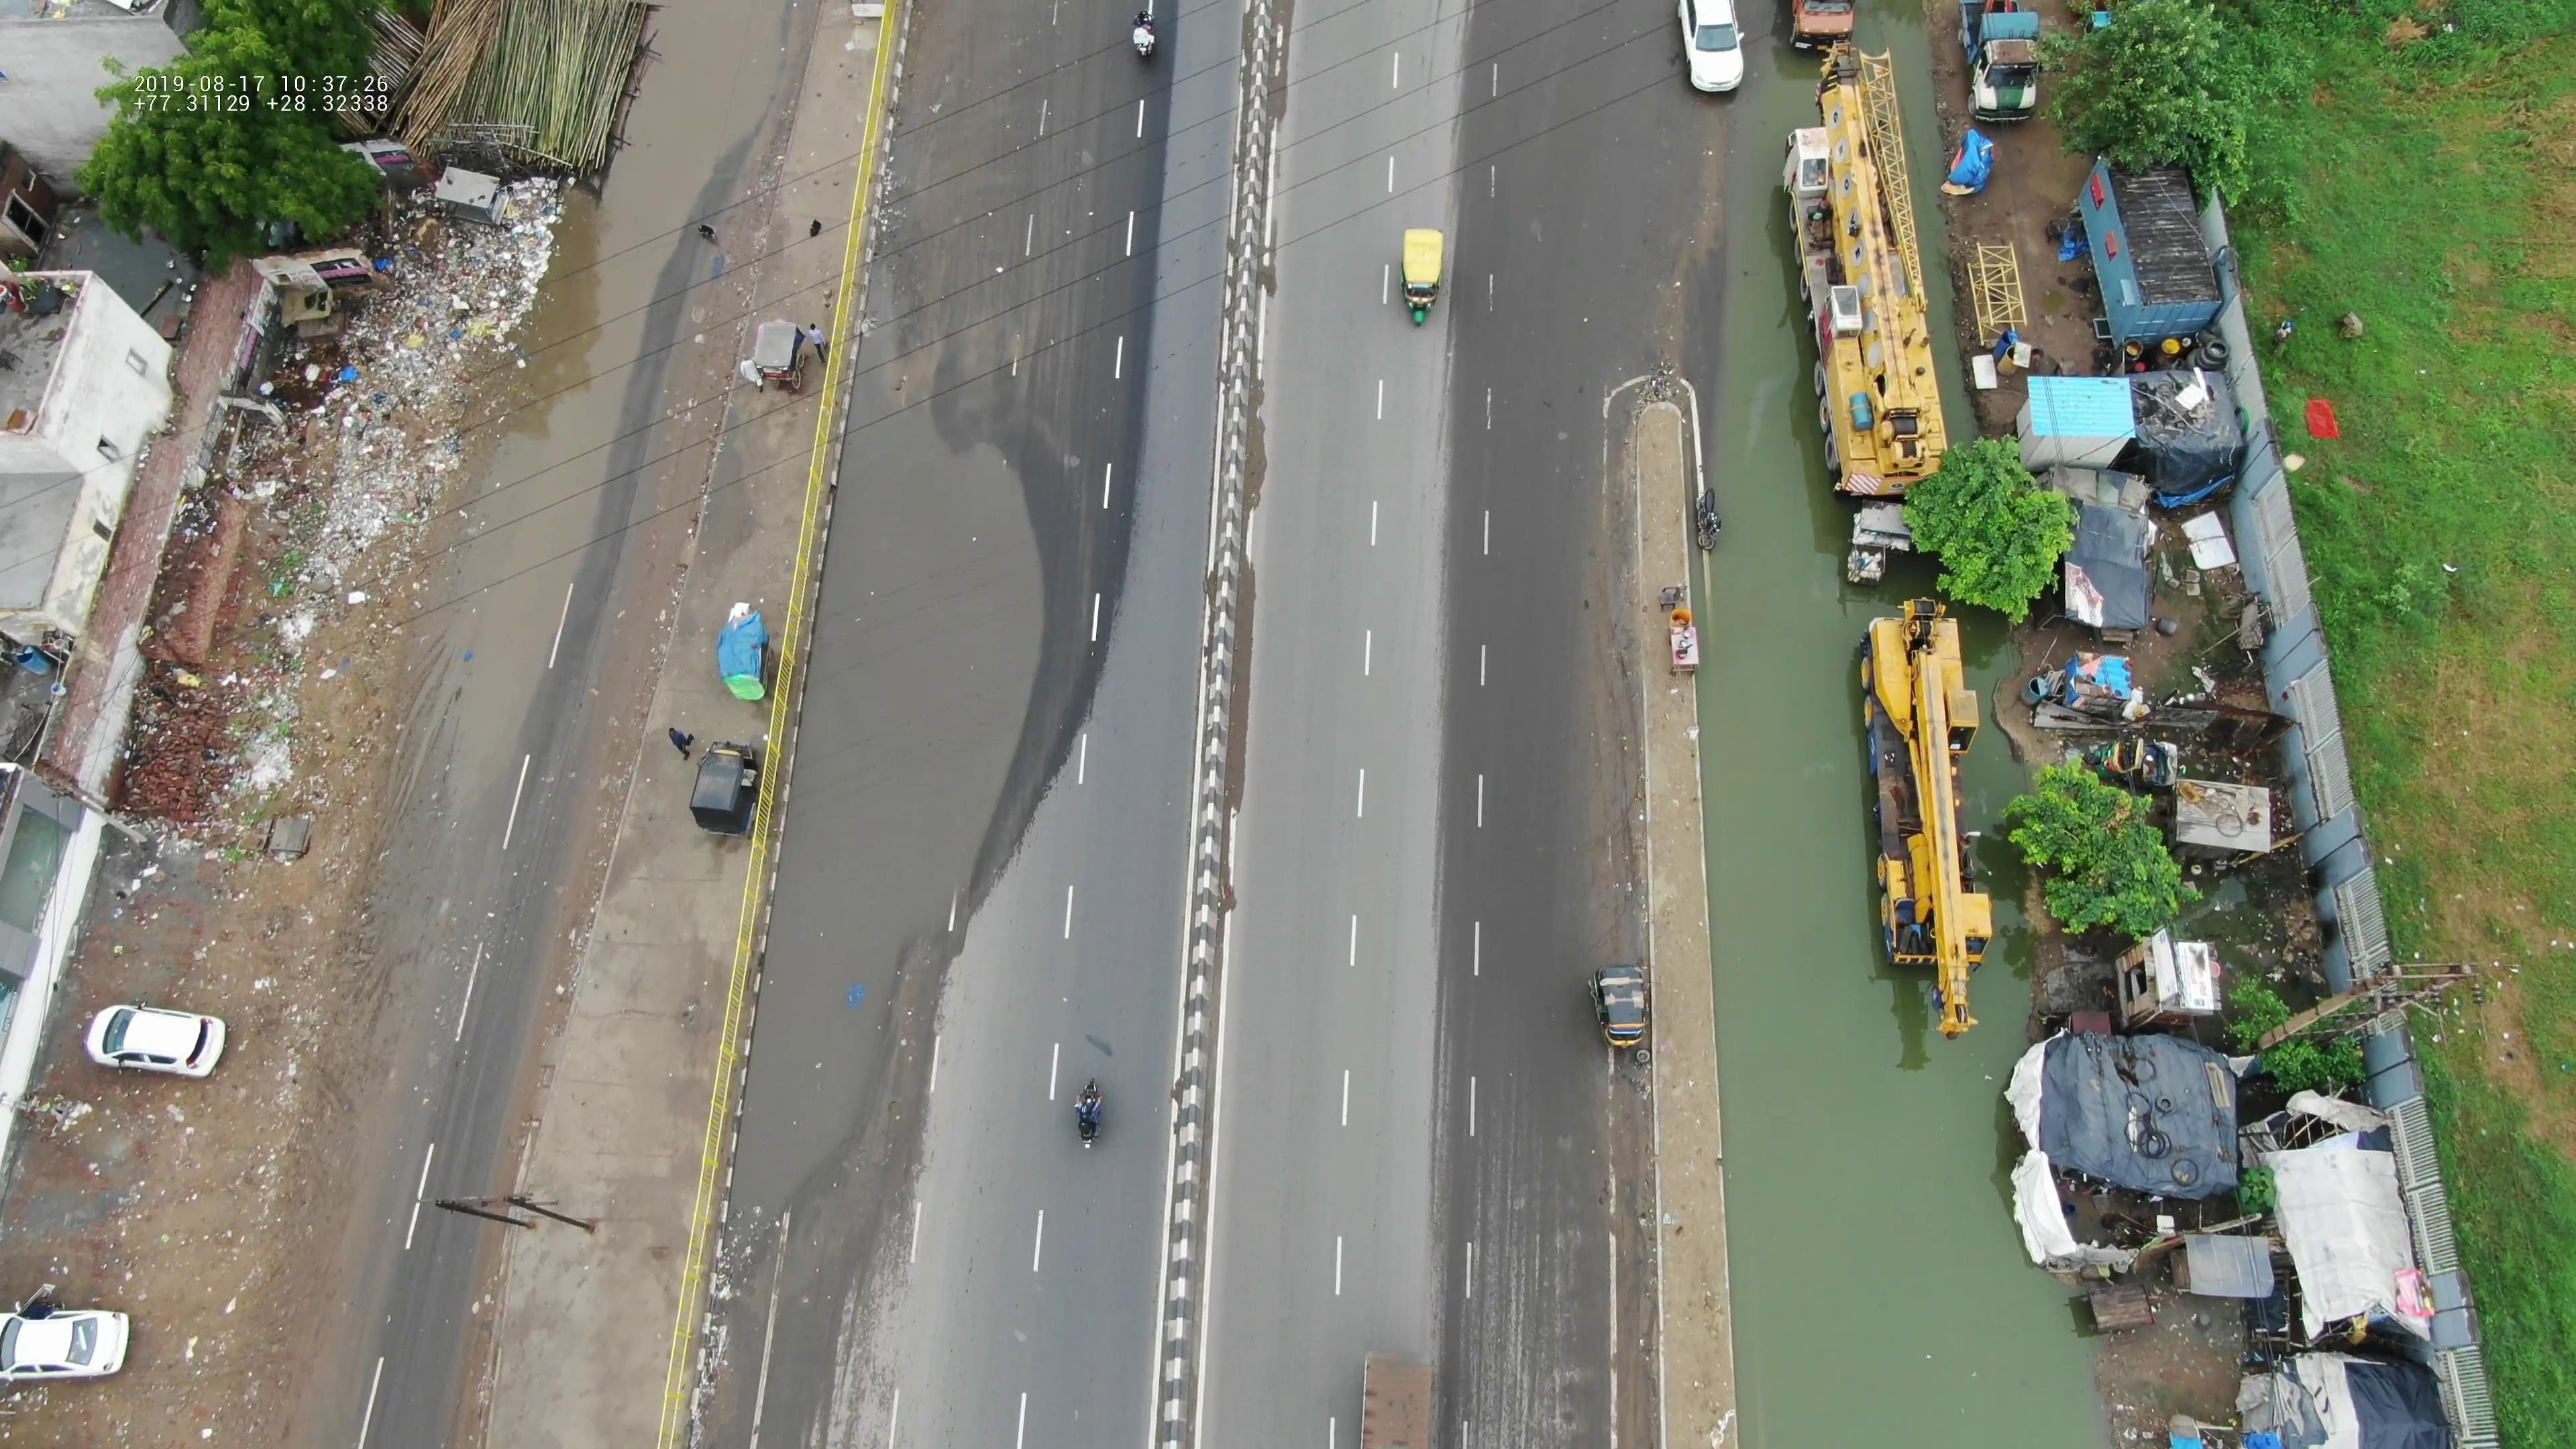Muddy_road: (267, 1044, 380, 1302), (333, 784, 444, 996)
Road_side_garbage: (295, 205, 540, 416), (235, 448, 449, 616)
Waterlogging: (1704, 879, 2135, 1426), (1713, 235, 2054, 849), (840, 366, 1065, 837), (706, 904, 916, 1253), (410, 462, 582, 755), (504, 246, 658, 441)
